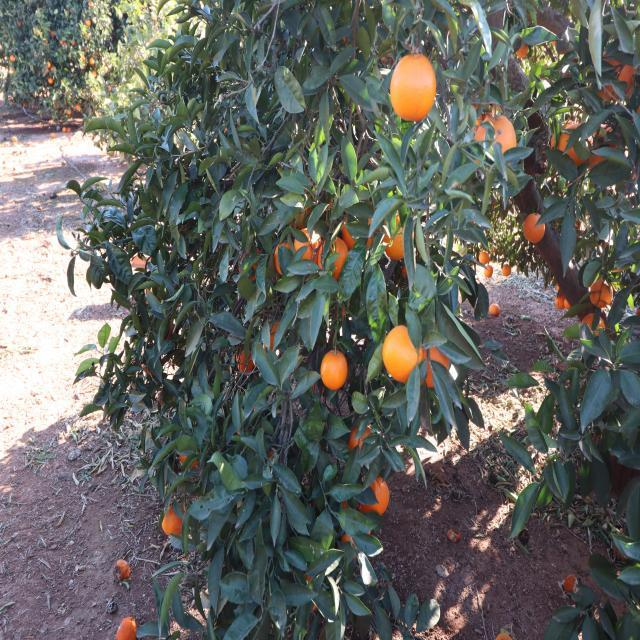Jeruk Sudah Matang: (391, 54, 436, 118), (384, 326, 422, 382), (599, 51, 634, 103), (473, 115, 516, 155), (546, 123, 588, 163), (420, 347, 452, 389), (320, 238, 350, 280), (381, 215, 405, 264), (362, 479, 392, 516), (321, 349, 348, 388), (294, 231, 318, 266), (160, 508, 188, 536), (588, 276, 614, 305), (580, 312, 609, 338), (236, 352, 258, 380), (522, 215, 546, 239), (340, 219, 358, 248), (178, 452, 200, 466), (268, 319, 278, 348), (478, 251, 491, 265), (488, 303, 501, 316), (554, 293, 565, 308), (484, 265, 494, 278), (563, 298, 571, 310), (502, 265, 510, 275), (556, 284, 560, 292)
